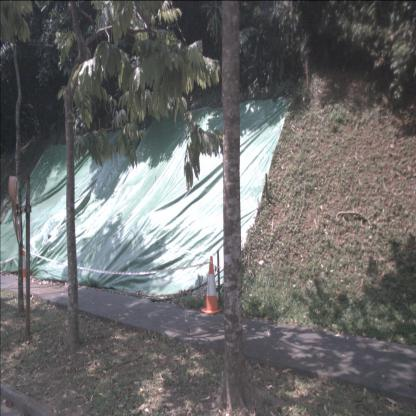movable_object-trafficcone: (200, 256, 223, 314), (16, 244, 28, 280)
